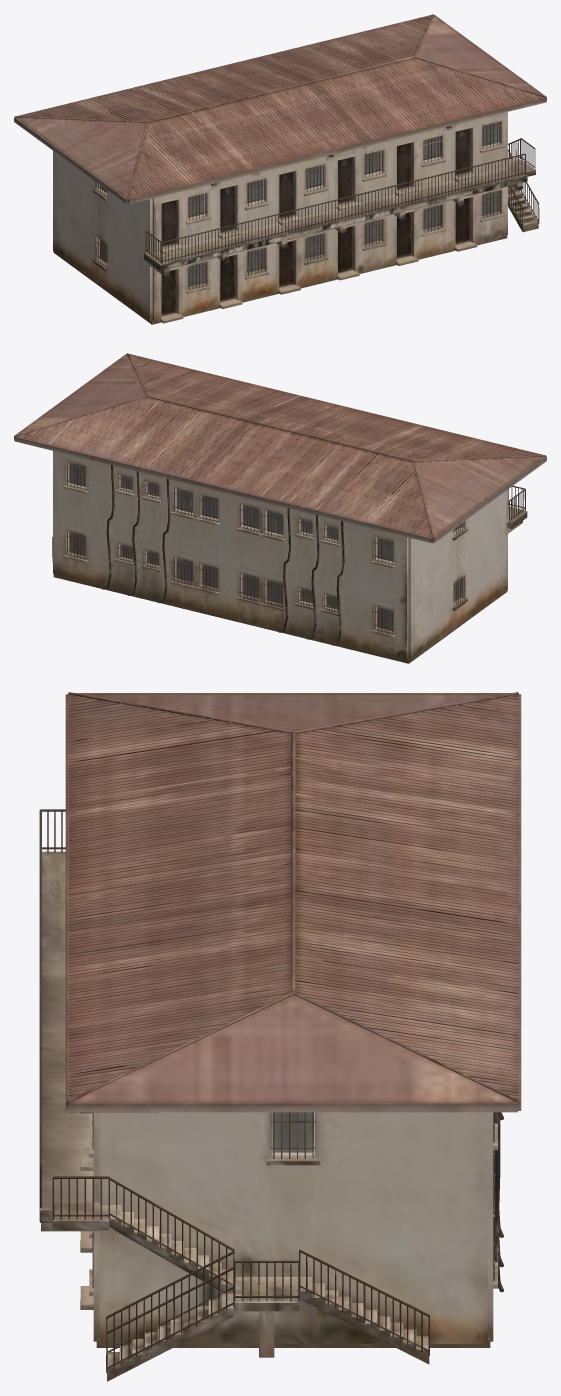
File: bedsitter.glb
3 renders of one model, top to bottom at view 1: azimuth 30°, elevation 25°; view 2: azimuth 150°, elevation 25°; view 3: azimuth 270°, elevation 25°, orthographic. The views are drawn at different scales.
Parts seen in each view (by area): view 1: model; view 2: model; view 3: model.
Boxes of the visible parts, x1=… form: model: x1=14, y1=14, x2=546, y2=324; model: x1=14, y1=353, x2=546, y2=663; model: x1=39, y1=692, x2=521, y2=1381.
Bounding box in the file's own units: 1.9 × 0.6755 × 0.938.
1 material, 1 textured.
